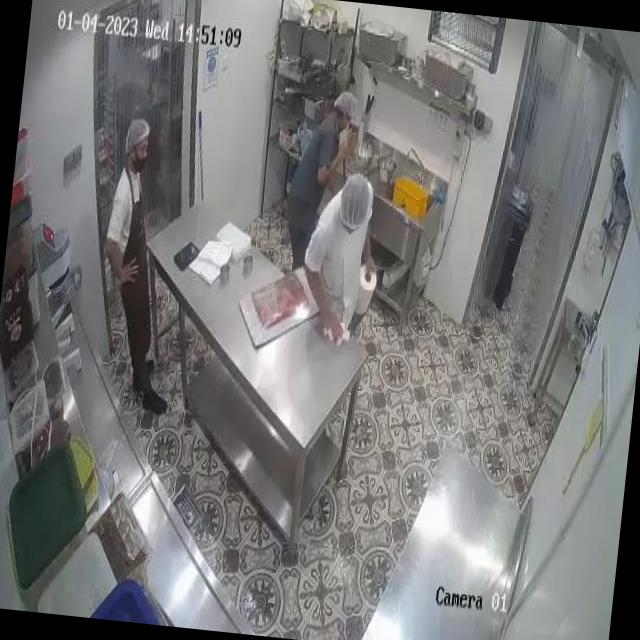hairnet: (338, 178, 374, 232), (124, 118, 150, 152), (334, 92, 359, 118)
